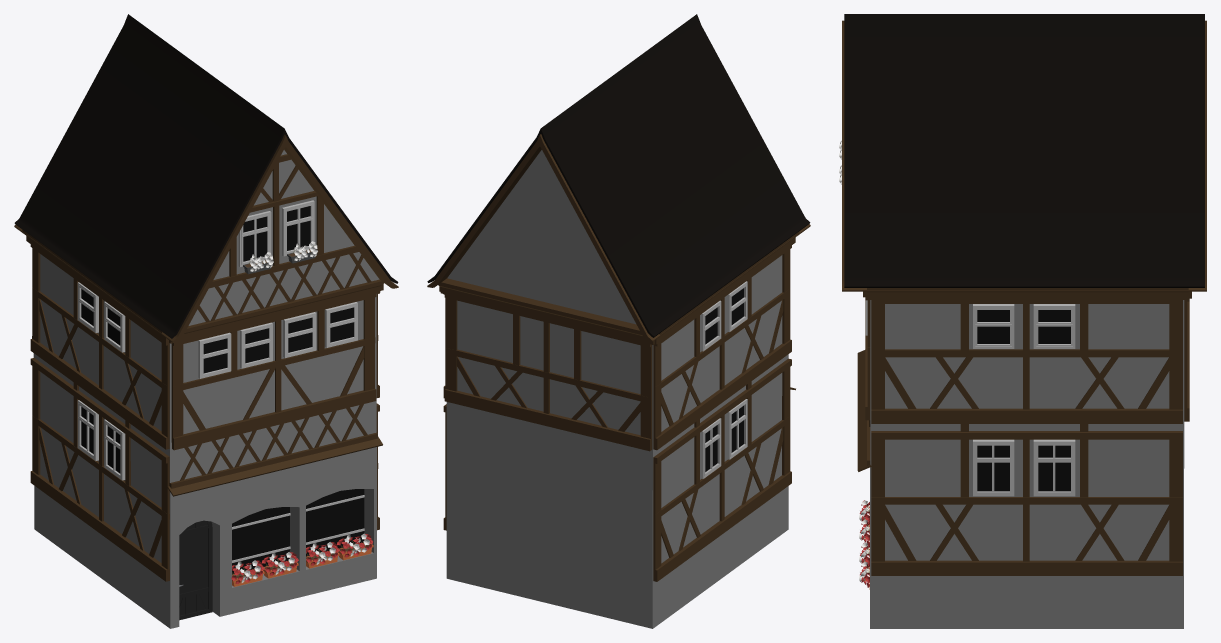
File: SM_house_german_003.fbx
The picture shows the model from 3 angles, left to right: view 1: azimuth 30°, elevation 25°; view 2: azimuth 150°, elevation 25°; view 3: azimuth 270°, elevation 25°; orthographic projection. The views are drawn at different scales.
Parts seen in each view (by area): view 1: Box170; view 2: Box170; view 3: Box170.
Boxes of the visible parts, bbox=[...] form: Box170: bbox=[14, 14, 398, 628]; Box170: bbox=[427, 14, 810, 628]; Box170: bbox=[839, 14, 1206, 628].
Bounding box in the file's own units: 243 × 296 × 495.
